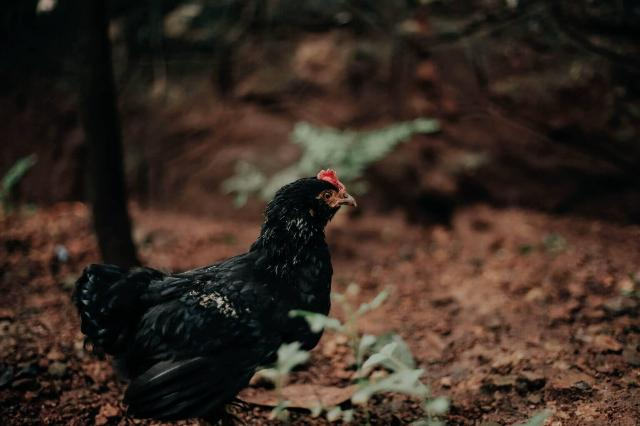Chicken: (69, 168, 359, 420)
